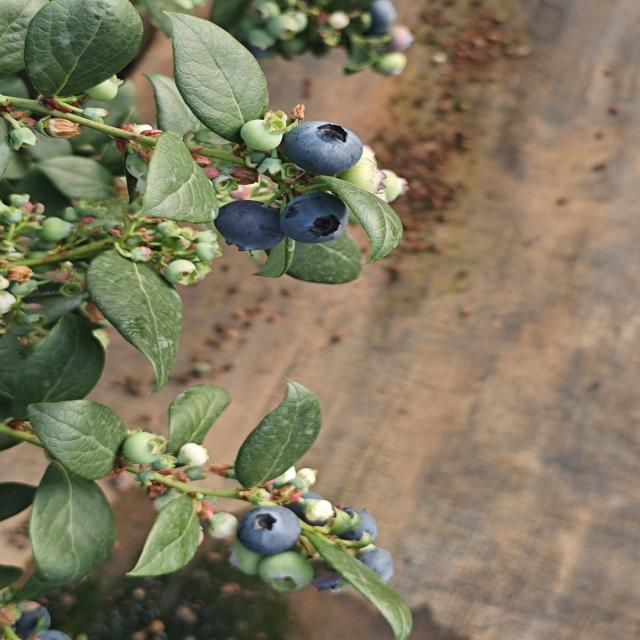ripe: (279, 119, 366, 178), (211, 198, 286, 254), (277, 190, 352, 246), (234, 503, 304, 558), (14, 605, 70, 640), (338, 502, 381, 543), (353, 547, 398, 584), (290, 491, 334, 528), (310, 566, 345, 600)
